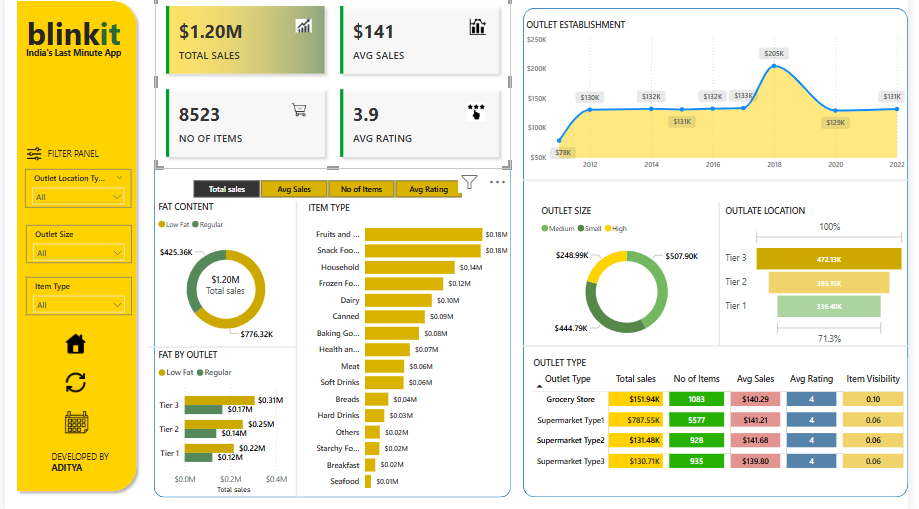

This screenshot's page, from the dashboard's own definition file:
{"tool":"powerbi","page":{"name":"Page 1","canvas":[1400,800],"ordinal":0},"visuals":[{"type":"shape","box":[10,0,203.3,778.3],"z":0},{"type":"textbox","box":[21.7,20.2,169,76],"z":1000},{"type":"textbox","box":[21.7,76,169,38.8],"z":2000},{"type":"cardVisual","fields":{"Data":["BlinkIT Grocery Data.Total sales","BlinkIT Grocery Data.Avg Sales","BlinkIT Grocery Data.No of Items","BlinkIT Grocery Data.Avg Rating"]},"box":[232.6,0,551.9,269.8],"z":3000},{"type":"shape","box":[231.7,258.3,553.3,520],"z":4000},{"type":"donutChart","title":"FAT CONTENT","fields":{"Y":["BlinkIT Grocery Data.Total sales"],"Category":["BlinkIT Grocery Data.Item Fat Content"]},"box":[232.6,319.4,220.2,229.5],"z":5000},{"type":"slicer","fields":{"Values":["matrics.matrics"]},"box":[266.7,280.6,465.1,40.3],"z":6000},{"type":"cardVisual","fields":{"Data":["BlinkIT Grocery Data.Total sales"]},"box":[291.5,415.5,100.8,62],"z":7000},{"type":"clusteredBarChart","title":"FAT BY OUTLET","fields":{"Y":["BlinkIT Grocery Data.Total sales"],"Category":["BlinkIT Grocery Data.Outlet Location Type"],"Series":["BlinkIT Grocery Data.Item Fat Content"]},"box":[232.6,548.8,220.2,229.5],"z":8000},{"type":"shape","box":[221.7,530.2,231,31],"z":9000},{"type":"shape","box":[437.2,319.4,29.5,460.5],"z":10000},{"type":"barChart","title":"ITEM TYPE","fields":{"Y":["BlinkIT Grocery Data.Total sales"],"Category":["BlinkIT Grocery Data.Item Type"]},"box":[465.1,320.9,319.4,458.9],"z":11000},{"type":"shape","box":[803.3,20,596.7,758.3],"z":12000},{"type":"lineChart","title":"OUTLET ESTABLISHMENT","fields":{"Y":["BlinkIT Grocery Data.Total sales"],"Category":["BlinkIT Grocery Data.Outlet Establishment Year"]},"box":[803.3,36.7,596.7,243.3],"z":13000},{"type":"donutChart","title":"OUTLET SIZE","fields":{"Y":["BlinkIT Grocery Data.Total sales"],"Category":["BlinkIT Grocery Data.Outlet Size"]},"box":[826.7,325,275,225],"z":14000},{"type":"shape","box":[1101.7,321.7,10,223.3],"z":15000},{"type":"funnel","title":"OUTLATE LOCATION","fields":{"Y":["Sum(BlinkIT Grocery Data.Sales)"],"Category":["BlinkIT Grocery Data.Outlet Location Type"]},"box":[1111.7,325,288.3,223.3],"z":16000},{"type":"shape","box":[803.3,531.7,596.7,25],"z":17000},{"type":"shape","box":[803.3,280,596.7,13.3],"z":18000},{"type":"pivotTable","title":"OUTLET TYPE","fields":{"Rows":["BlinkIT Grocery Data.Outlet Type"],"Values":["BlinkIT Grocery Data.Total sales","BlinkIT Grocery Data.No of Items","BlinkIT Grocery Data.Avg Sales","BlinkIT Grocery Data.Avg Rating","Avg(BlinkIT Grocery Data.Item Visibility)"]},"box":[813.3,561.7,585,195],"z":19000},{"type":"slicer","fields":{"Values":["BlinkIT Grocery Data.Outlet Location Type"]},"box":[31.7,270,165,60],"z":20000},{"type":"slicer","fields":{"Values":["BlinkIT Grocery Data.Outlet Size"]},"box":[32.6,356.6,164.3,58.9],"z":21000},{"type":"slicer","fields":{"Values":["BlinkIT Grocery Data.Item Type"]},"box":[32.6,437.2,164.3,58.9],"z":22000},{"type":"textbox","box":[55.8,232.6,99.2,27.9],"z":23000},{"type":"textbox","box":[66.7,702.3,110.1,45],"z":24000},{"type":"image","box":[80.6,517.8,58.9,48.1],"z":25000},{"type":"image","box":[21.7,227.9,46.5,37.2],"z":26000},{"type":"image","box":[82.2,638.8,57.4,48.1],"z":27000},{"type":"image","box":[80.6,576.7,58.9,48.1],"z":28000}]}

Visuals, with their boxes on the page's 1400x800 design canvas (x1, y1, x2, y2). These are canvas units, not pixel positions in the 919x509 screenshot, which may show the page scaled, cropped or inside an application window:
shape: x1=10 y1=0 x2=213 y2=778
textbox: x1=22 y1=20 x2=191 y2=96
textbox: x1=22 y1=76 x2=191 y2=115
cardVisual - BlinkIT Grocery Data.Total sales x BlinkIT Grocery Data.Avg Sales: x1=233 y1=0 x2=784 y2=270
shape: x1=232 y1=258 x2=785 y2=778
"FAT CONTENT" donutChart: x1=233 y1=319 x2=453 y2=549
slicer - matrics.matrics: x1=267 y1=281 x2=732 y2=321
cardVisual - BlinkIT Grocery Data.Total sales: x1=292 y1=416 x2=392 y2=478
"FAT BY OUTLET" clusteredBarChart: x1=233 y1=549 x2=453 y2=778
shape: x1=222 y1=530 x2=453 y2=561
shape: x1=437 y1=319 x2=467 y2=780
"ITEM TYPE" barChart: x1=465 y1=321 x2=784 y2=780
shape: x1=803 y1=20 x2=1400 y2=778
"OUTLET ESTABLISHMENT" lineChart: x1=803 y1=37 x2=1400 y2=280
"OUTLET SIZE" donutChart: x1=827 y1=325 x2=1102 y2=550
shape: x1=1102 y1=322 x2=1112 y2=545
"OUTLATE LOCATION" funnel: x1=1112 y1=325 x2=1400 y2=548
shape: x1=803 y1=532 x2=1400 y2=557
shape: x1=803 y1=280 x2=1400 y2=293
"OUTLET TYPE" pivotTable: x1=813 y1=562 x2=1398 y2=757
slicer - BlinkIT Grocery Data.Outlet Location Type: x1=32 y1=270 x2=197 y2=330
slicer - BlinkIT Grocery Data.Outlet Size: x1=33 y1=357 x2=197 y2=416
slicer - BlinkIT Grocery Data.Item Type: x1=33 y1=437 x2=197 y2=496
textbox: x1=56 y1=233 x2=155 y2=260
textbox: x1=67 y1=702 x2=177 y2=747
image: x1=81 y1=518 x2=140 y2=566
image: x1=22 y1=228 x2=68 y2=265
image: x1=82 y1=639 x2=140 y2=687
image: x1=81 y1=577 x2=140 y2=625
